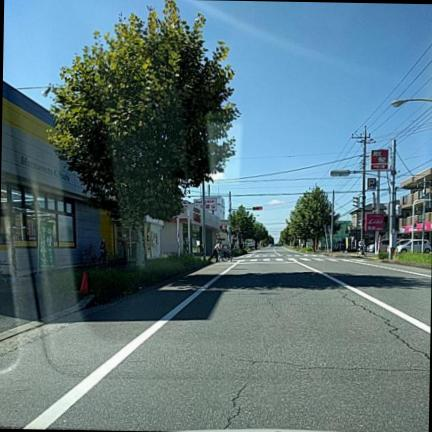Road: (0, 248, 431, 431)
